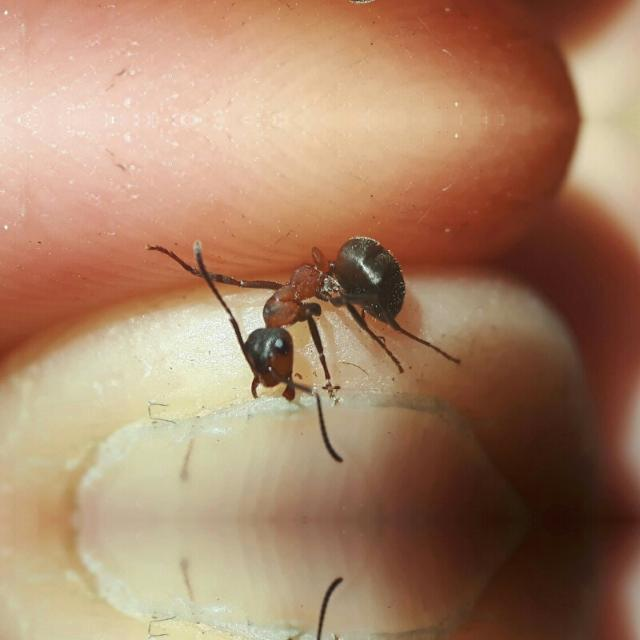Formica: (196, 200, 416, 418)
